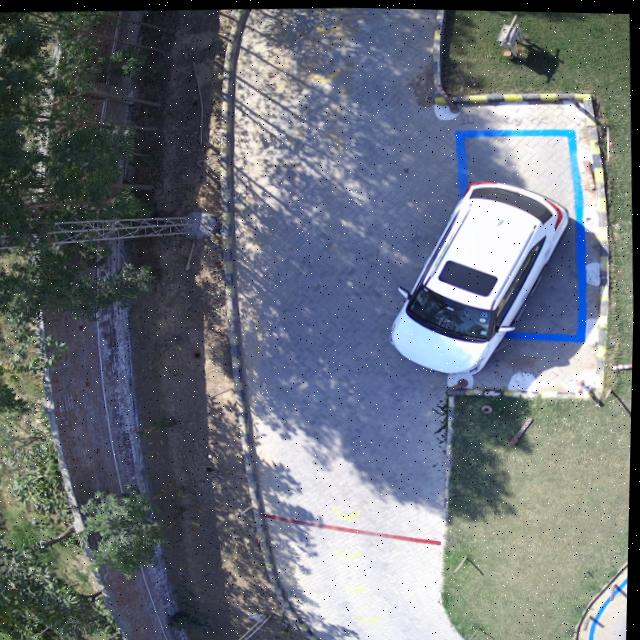car: (391, 177, 569, 370)
